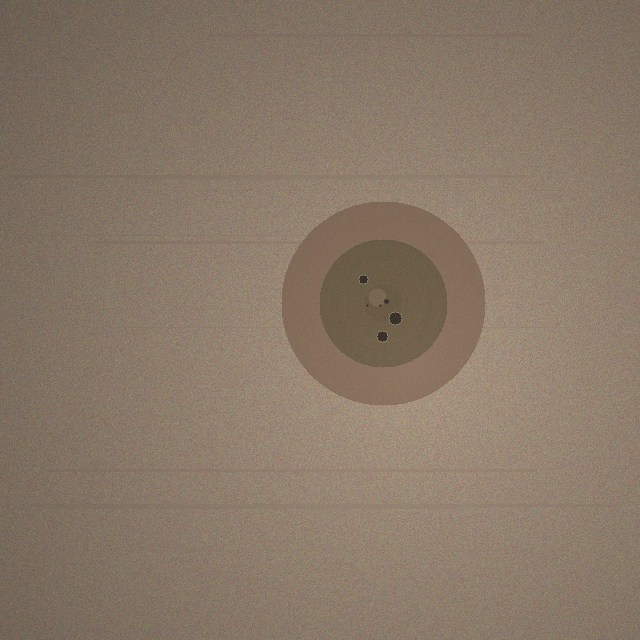shrinkage: (281, 201, 485, 405)
